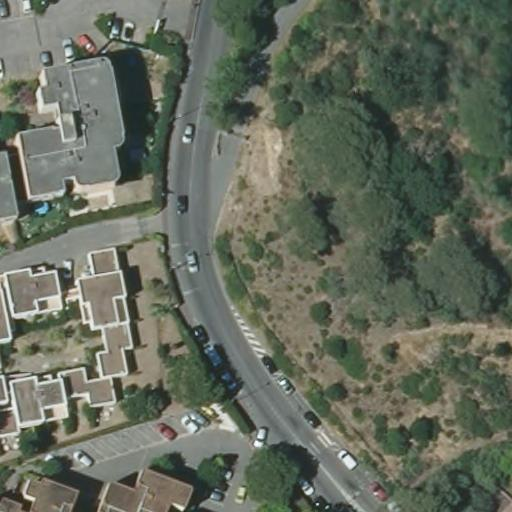pool: (32, 198, 51, 216)
